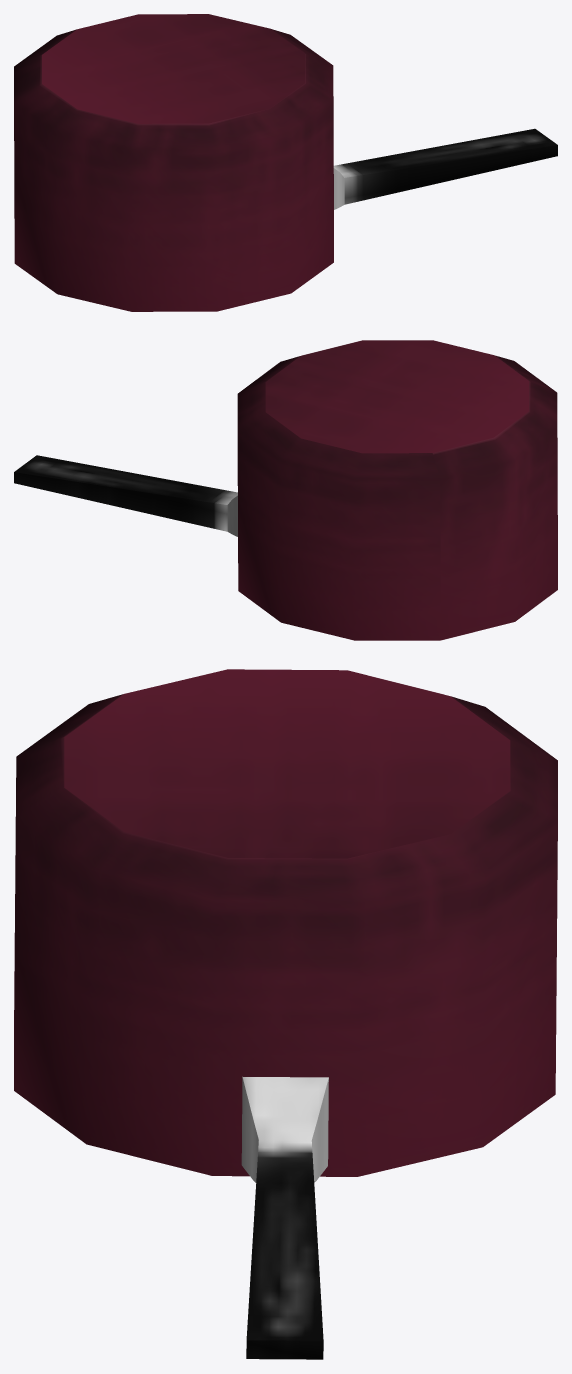
Rendered from SaucepanChocolateHand.fbx.
3 views of the same model, one above another, from view 1: azimuth 30°, elevation 25°; view 2: azimuth 150°, elevation 25°; view 3: azimuth 270°, elevation 25° (orthographic). The views are drawn at different scales.
Parts seen in each view (by area): view 1: ChocolateHand; view 2: ChocolateHand; view 3: ChocolateHand.
Part boxes in pixels (x1,y1,x2,y2): ChocolateHand: [14, 14, 557, 311]; ChocolateHand: [14, 340, 557, 640]; ChocolateHand: [14, 669, 557, 1359].
Bounding box in the file's own units: 60.76 × 23.17 × 33.05.
